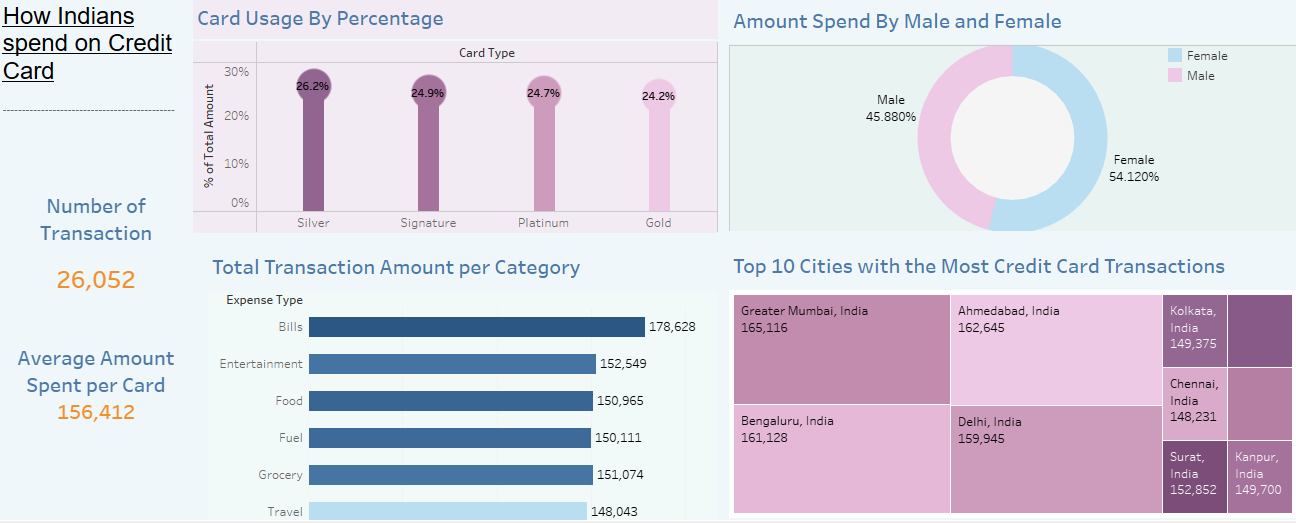

Layout of this report page (visuals, bound fields, positions):
{"tool":"tableau","page":{"name":"Dashboard 1","canvas":[1000,1000],"units":"permille","ordinal":0},"visuals":[{"type":"text","box":[1.4,10,127.1,246.7]},{"type":"worksheet","title":"Card Usage By Percentage","mark":"Automatic","rows":["Amount","Amount"],"cols":["Card Type"],"box":[139.3,15,375,443.3]},{"type":"worksheet","title":"Amount Spend By Male and Female","mark":"Pie","rows":["Calculation_1667457787506556929","Calculation_1667457787506556929"],"box":[522.1,20,405.7,435]},{"type":"legend","title":"Amount Spend By Male and Female","param":"[federated.024pr7x1wdc0mu1gvn2pa015qp7c].[none:Gender:nk]","box":[833.6,101.7,80.7,105]},{"type":"worksheet","title":"Sheet 5","mark":"Automatic","box":[2.1,336.7,135,283.3]},{"type":"worksheet","title":"Top 10 Cities with the Most Credit Card Transactions","mark":"Automatic","box":[522.1,485,405,513.3]},{"type":"worksheet","title":"Sheet 6","mark":"Automatic","box":[1.4,618.3,136.4,256.7]}]}

Visuals, with their boxes on the dashboard's canvas, which has no fixed pixel size, in thousandths of its width and height (x1, y1, x2, y2). These are canvas units, not pixel positions in the 1296x523 screenshot, which may show the page scaled, cropped or inside an application window:
text: crop(1, 10, 128, 257)
"Card Usage By Percentage" worksheet: crop(139, 15, 514, 458)
"Amount Spend By Male and Female" worksheet (Pie marks): crop(522, 20, 928, 455)
"Amount Spend By Male and Female" legend: crop(834, 102, 914, 207)
"Sheet 5" worksheet: crop(2, 337, 137, 620)
"Top 10 Cities with the Most Credit Card Transactions" worksheet: crop(522, 485, 927, 998)
"Sheet 6" worksheet: crop(1, 618, 138, 875)
